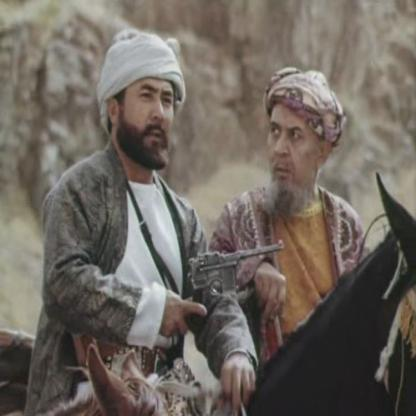gun: (178, 234, 295, 306)
